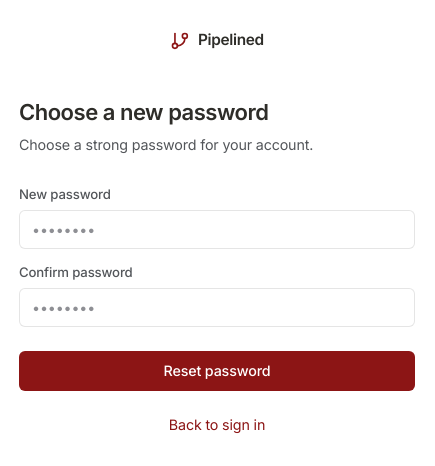
Test: ResetPassword › should show error when new password is empty
Step 1. Click the button "Reset password" → (217, 371), box 19,351 -> 415,391
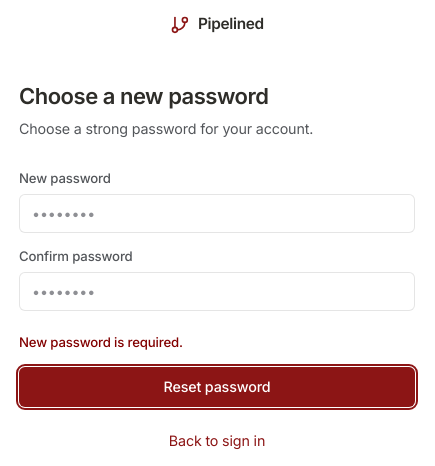
Expected: the message reads "New password is required.", 19,334 -> 183,350
